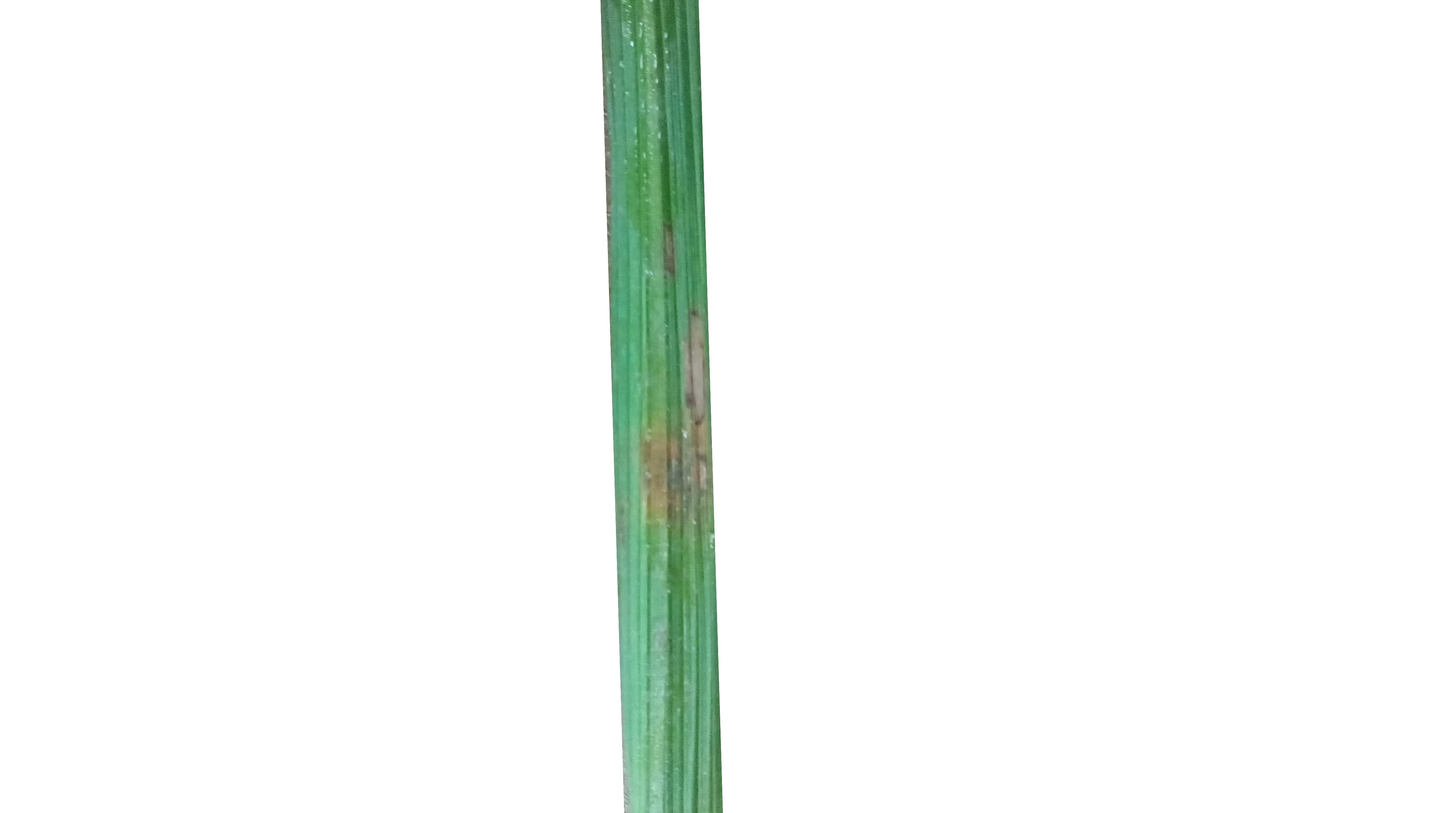Rice blast: (629, 301, 706, 587), (664, 212, 680, 295)
